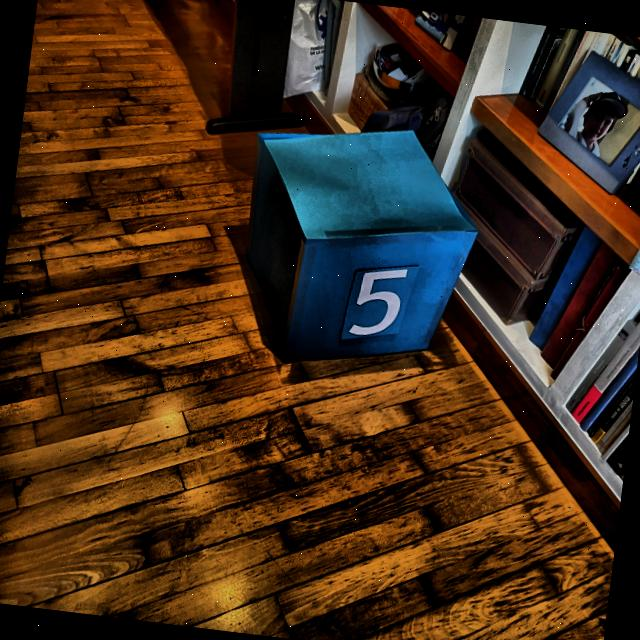blue box: (228, 110, 484, 382)
five: (344, 258, 412, 342)
